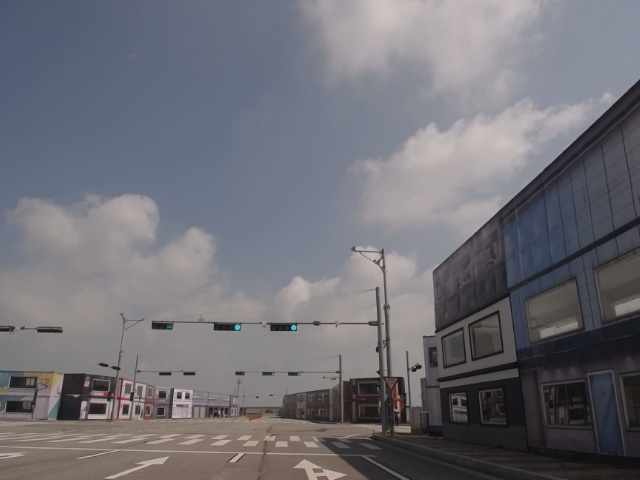straight_green_4: (213, 322, 241, 330), (271, 324, 298, 332)
